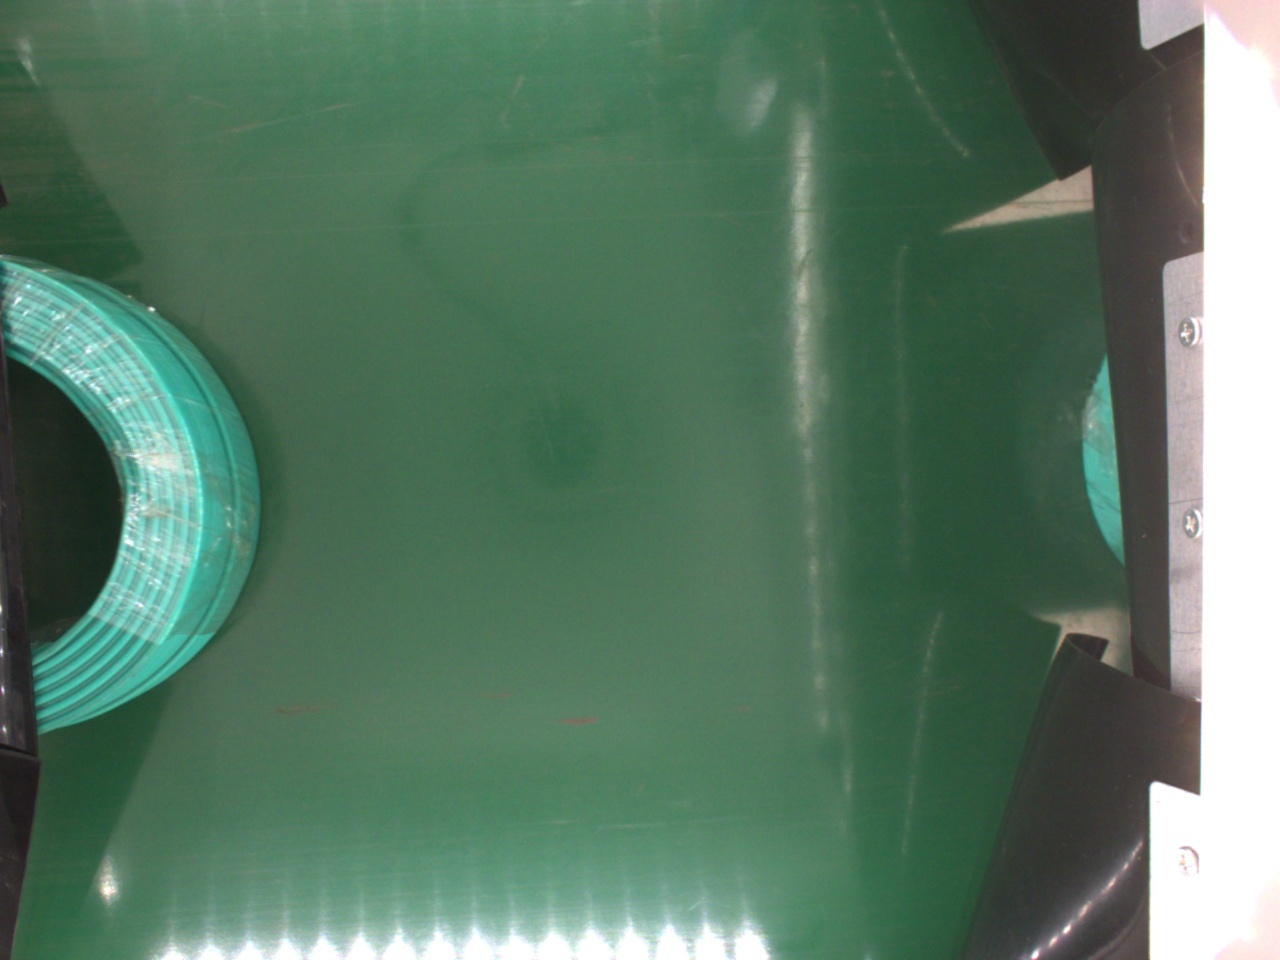green: (4, 251, 267, 739)
